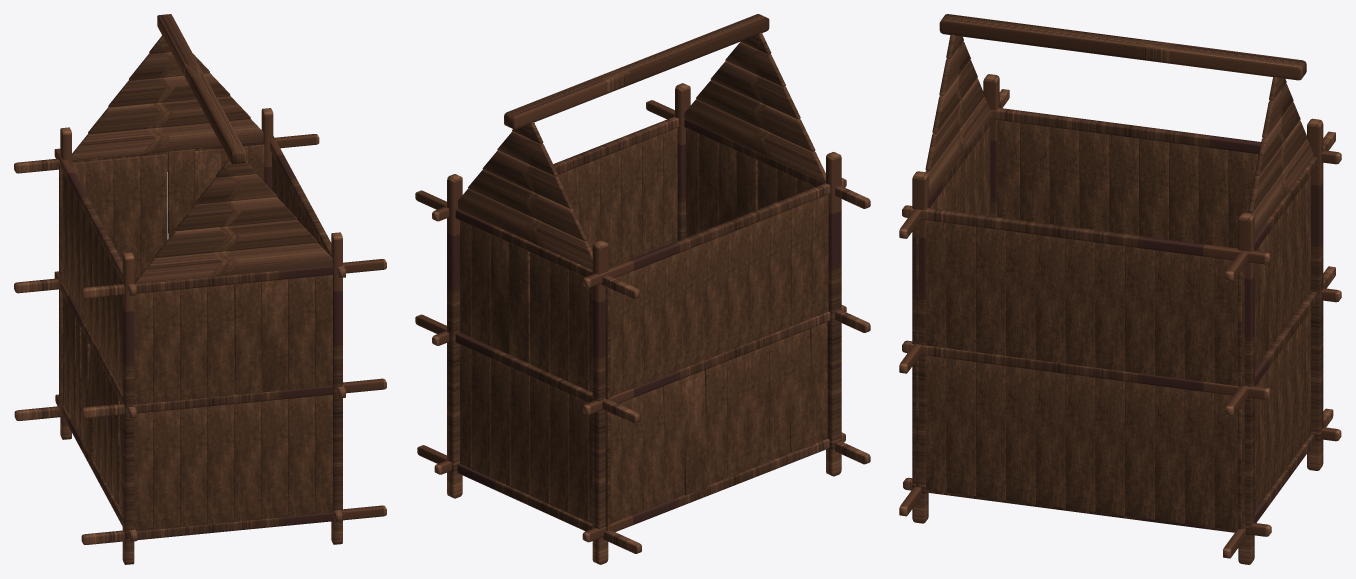
File: House.fbx
3 renders of one model, left to right at view 1: azimuth 30°, elevation 25°; view 2: azimuth 150°, elevation 25°; view 3: azimuth 270°, elevation 25°, orthographic. The views are drawn at different scales.
Visible parts, largest first — view 1: Plane.087; view 2: Plane.087; view 3: Plane.087.
Part boxes in pixels (x1,y1,x2,y2): Plane.087: (14,14,386,564); Plane.087: (415,14,870,564); Plane.087: (899,14,1341,564).
Bounding box in the file's own units: 150 × 172 × 151.
